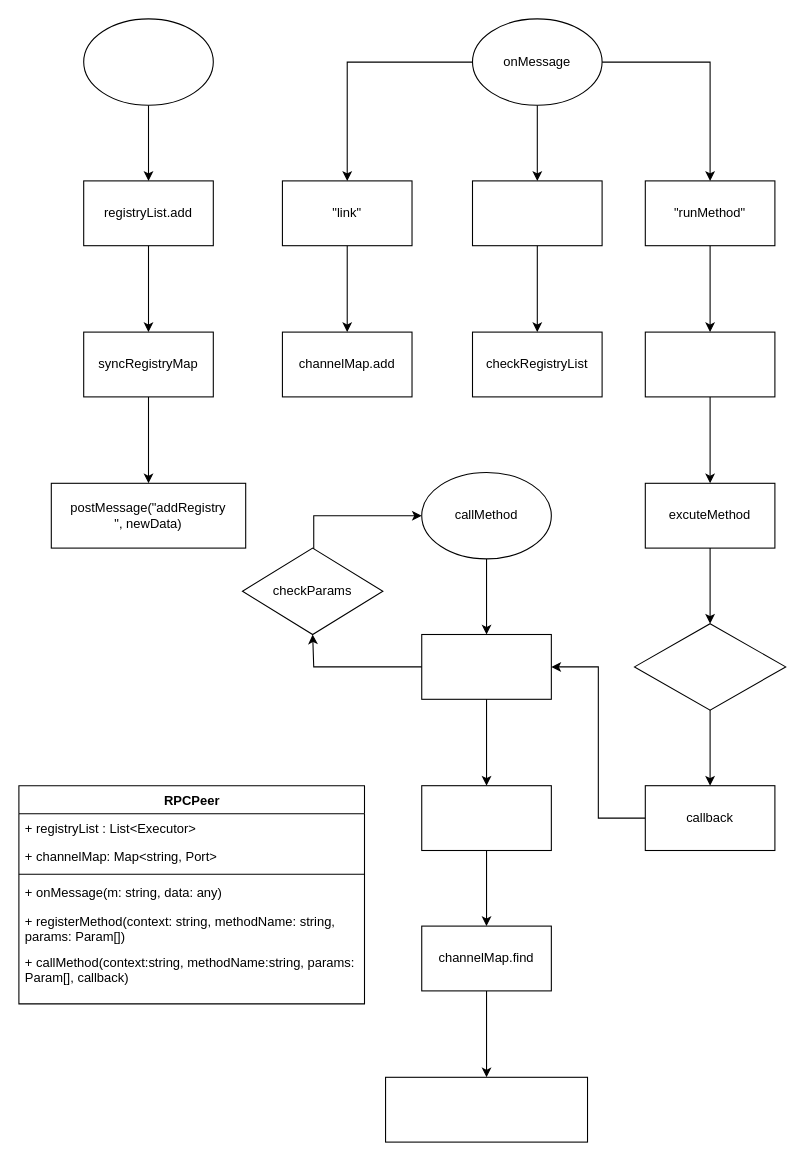
The diagram is 805 pixels wide and 1161 high, and some of its shapes have lost their labels. The centre of each missing label's shape, as x and y in pixels:
"addRegistry": point (536, 213)
getContext: point (486, 817)
hasCallback: point (709, 666)
postMessage("runMethod ", webWorkerPacket): point (486, 1109)
reflectMethod: point (709, 364)
registerMethod: point (148, 61)
registryList .find: point (486, 666)
